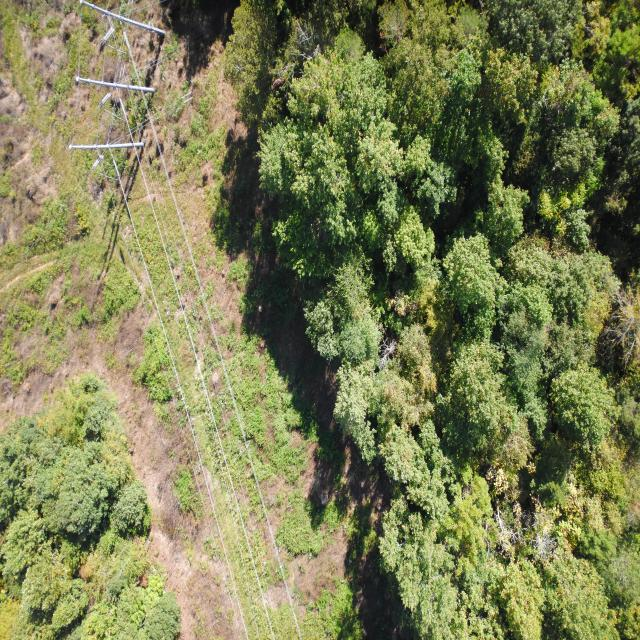Area of Interest: (257, 5, 636, 636), (8, 391, 173, 638)
